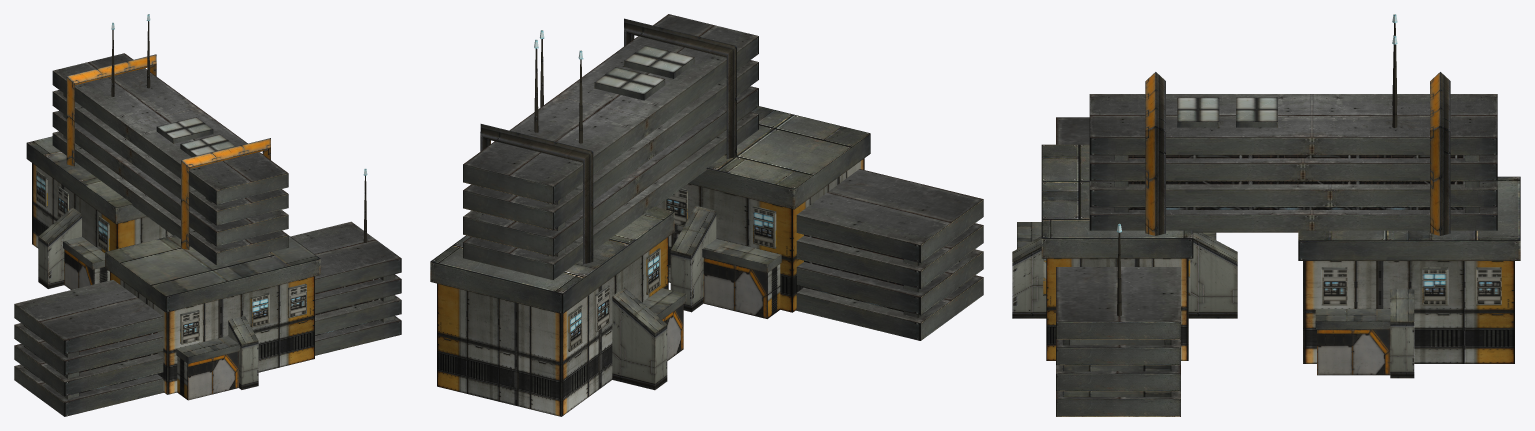
File: constructor_building.obj
The picture shows the model from 3 angles, left to right: view 1: azimuth 30°, elevation 25°; view 2: azimuth 150°, elevation 25°; view 3: azimuth 270°, elevation 25°; orthographic projection. The views are drawn at different scales.
Parts seen in each view (by area): view 1: factory; view 2: factory; view 3: factory.
Boxes of the visible parts, x1,y1,x2,y2 form: factory: (14,14,401,416); factory: (430,14,983,416); factory: (1012,14,1520,416).
Size of the model in its own units: 35.24 by 24.89 by 37.
Materials: 1 (1 with a texture image).
